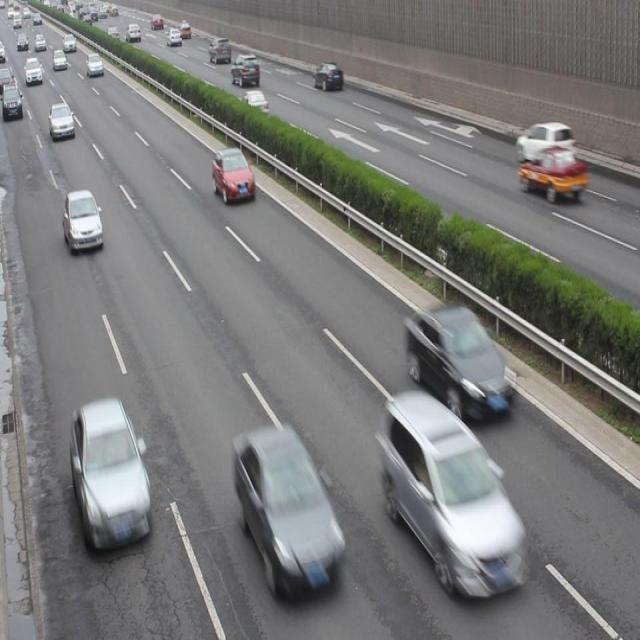car: (380, 388, 524, 587), (234, 423, 342, 592), (405, 300, 511, 422), (71, 397, 151, 554), (517, 144, 586, 204), (515, 119, 575, 168), (63, 189, 104, 254), (212, 146, 254, 205), (238, 89, 269, 124), (231, 52, 261, 88), (50, 102, 76, 142), (313, 60, 342, 92)
